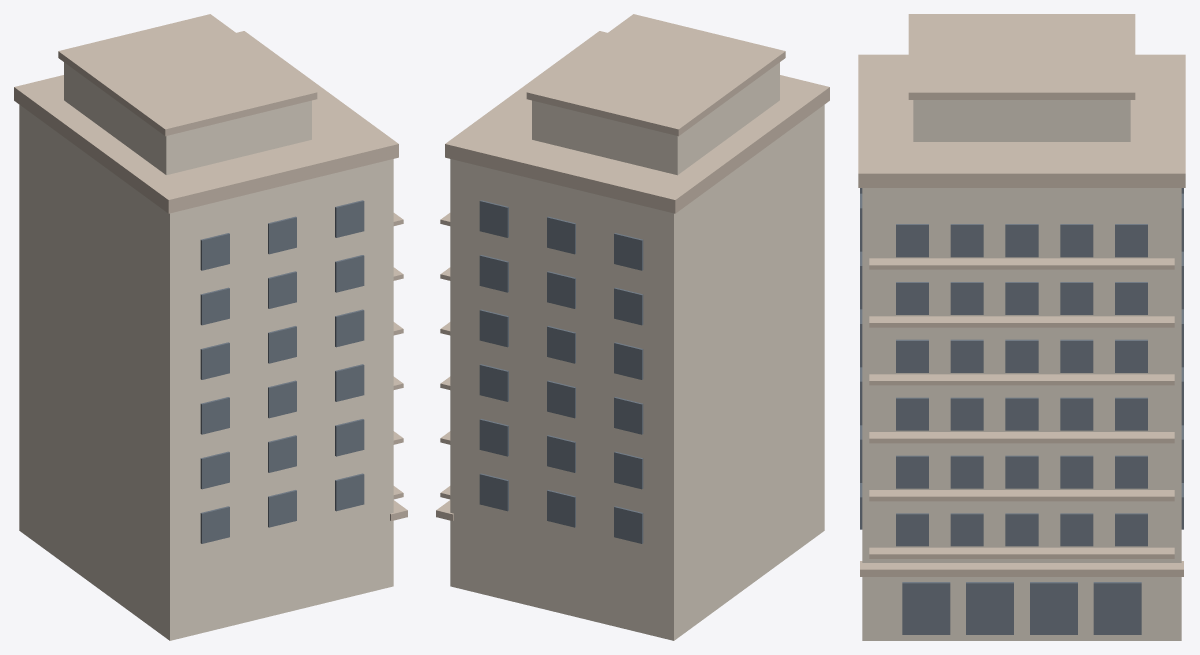
File: coastal_building_tall.glb
3 renders of one model, left to right at view 1: azimuth 30°, elevation 25°; view 2: azimuth 150°, elevation 25°; view 3: azimuth 270°, elevation 25°, orthographic. The views are drawn at different scales.
Visible parts, largest first — view 1: coastal_building_tall; view 2: coastal_building_tall; view 3: coastal_building_tall.
Part boxes in pixels (x1,y1,x2,y2): coastal_building_tall: (14,14,407,640); coastal_building_tall: (436,14,829,640); coastal_building_tall: (858,14,1185,640).
Bounding box in the file's own units: 12.88 × 25.17 × 14.35.
